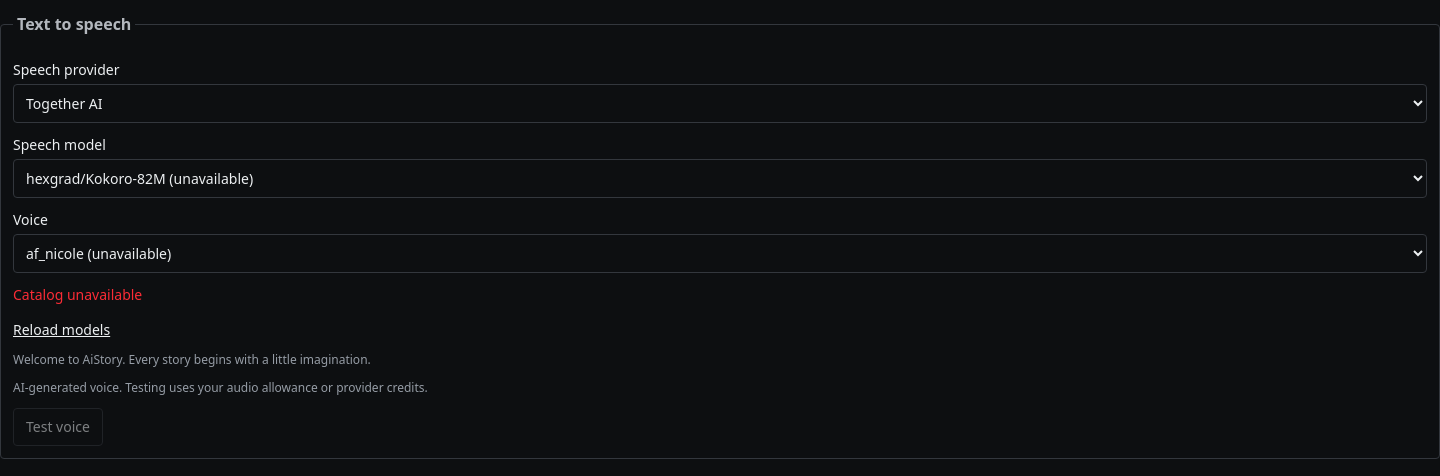
TTS settings UI › keeps unavailable selections and supports retry after a catalog error
The width and height of the screenshot is (1440, 476).
Expected: the text "Catalog unavailable" is shown, [13,285,142,304]
Expected: the button "Test voice" is disabled, [13,408,103,446]
Click the button "Reload models" at (62, 330), box [13,320,110,340]
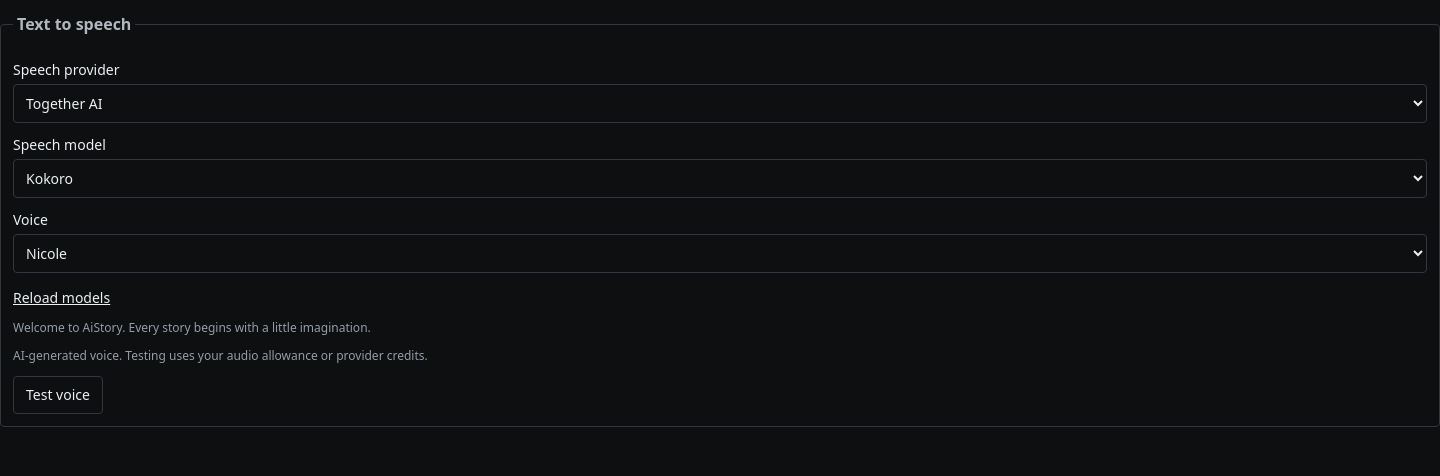
Now the button "Test voice" is enabled, box [13,376,103,414]
